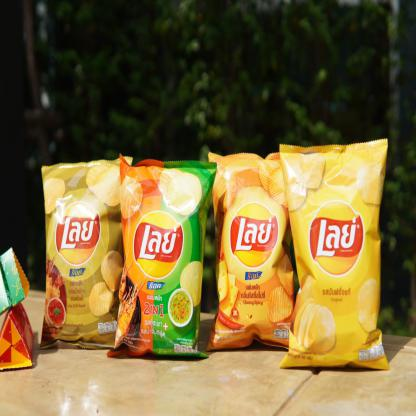potatochip: (274, 135, 398, 376), (106, 151, 222, 365), (202, 144, 310, 360), (34, 154, 138, 358)
